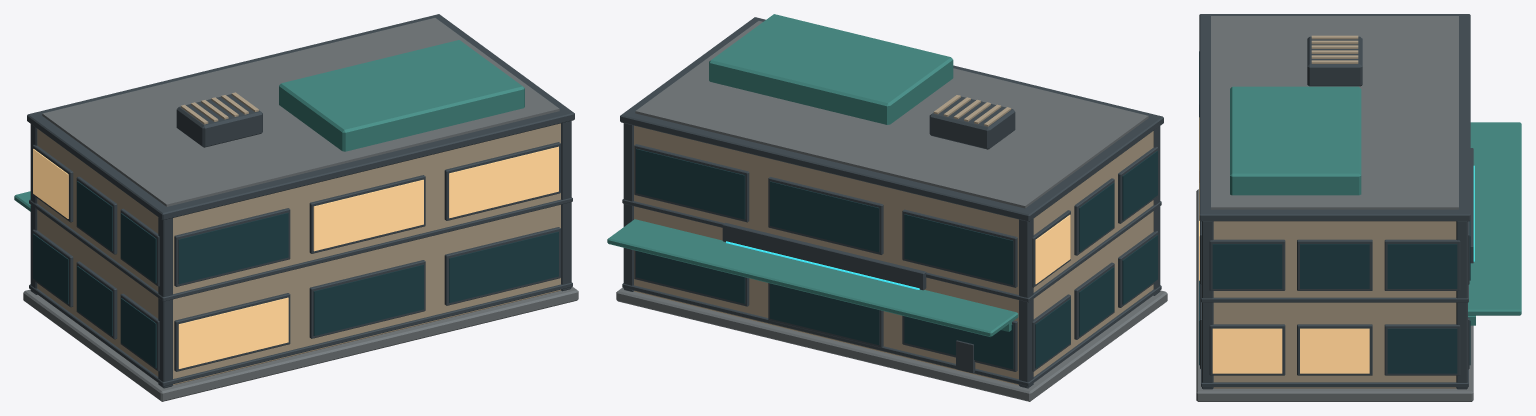
Rendered from market_building.glb.
3 renders of one model, left to right at view 1: azimuth 30°, elevation 25°; view 2: azimuth 150°, elevation 25°; view 3: azimuth 270°, elevation 25°, orthographic.
Visible parts, largest first — view 1: Structural_Shell, Roof_Deck, Batch_Charcoal_Trim, Batch_Blue_Glazing, Batch_Painted_Accent, Batch_Warm_Window_Light, Roof_Parapet, Foundation, Batch_Warm_Mineral_Facade; view 2: Roof_Deck, Batch_Blue_Glazing, Batch_Painted_Accent, Structural_Shell, Batch_Charcoal_Trim, Roof_Parapet, Foundation, Entrance_Glass, Batch_Warm_Window_Light, Batch_Warm_Mineral_Facade, Sign_Underline; view 3: Roof_Deck, Batch_Painted_Accent, Structural_Shell, Batch_Charcoal_Trim, Batch_Blue_Glazing, Roof_Parapet, Batch_Warm_Window_Light, Foundation, Batch_Warm_Mineral_Facade.
Boxes of the visible parts, bbox=[...] form: Structural_Shell: bbox=[37, 123, 560, 385]; Roof_Deck: bbox=[42, 18, 559, 206]; Batch_Charcoal_Trim: bbox=[29, 94, 572, 388]; Batch_Blue_Glazing: bbox=[33, 181, 558, 368]; Batch_Painted_Accent: bbox=[14, 40, 524, 211]; Batch_Warm_Window_Light: bbox=[33, 146, 558, 368]; Roof_Parapet: bbox=[27, 14, 574, 220]; Foundation: bbox=[23, 286, 578, 401]; Batch_Warm_Mineral_Facade: bbox=[181, 92, 258, 124]; Roof_Deck: bbox=[635, 21, 1148, 208]; Batch_Blue_Glazing: bbox=[636, 148, 1157, 369]; Batch_Painted_Accent: bbox=[607, 14, 1018, 337]; Structural_Shell: bbox=[634, 125, 1153, 385]; Batch_Charcoal_Trim: bbox=[622, 96, 1161, 388]; Roof_Parapet: bbox=[620, 17, 1163, 221]; Foundation: bbox=[616, 287, 1167, 401]; Entrance_Glass: bbox=[770, 283, 879, 345]; Batch_Warm_Window_Light: bbox=[1035, 214, 1070, 284]; Batch_Warm_Mineral_Facade: bbox=[933, 95, 1011, 126]; Sign_Underline: bbox=[726, 241, 919, 289]; Roof_Deck: bbox=[1211, 16, 1458, 209]; Batch_Painted_Accent: bbox=[1230, 86, 1521, 325]; Structural_Shell: bbox=[1213, 221, 1456, 388]; Batch_Charcoal_Trim: bbox=[1200, 36, 1473, 389]; Batch_Blue_Glazing: bbox=[1199, 51, 1470, 373]; Roof_Parapet: bbox=[1199, 14, 1470, 221]; Batch_Warm_Window_Light: bbox=[1199, 117, 1369, 373]; Foundation: bbox=[1196, 189, 1473, 401]; Batch_Warm_Mineral_Facade: bbox=[1311, 35, 1358, 63].
Size of what is drawn, in the model's own units: 16.5 by 8.04 by 11.15.
